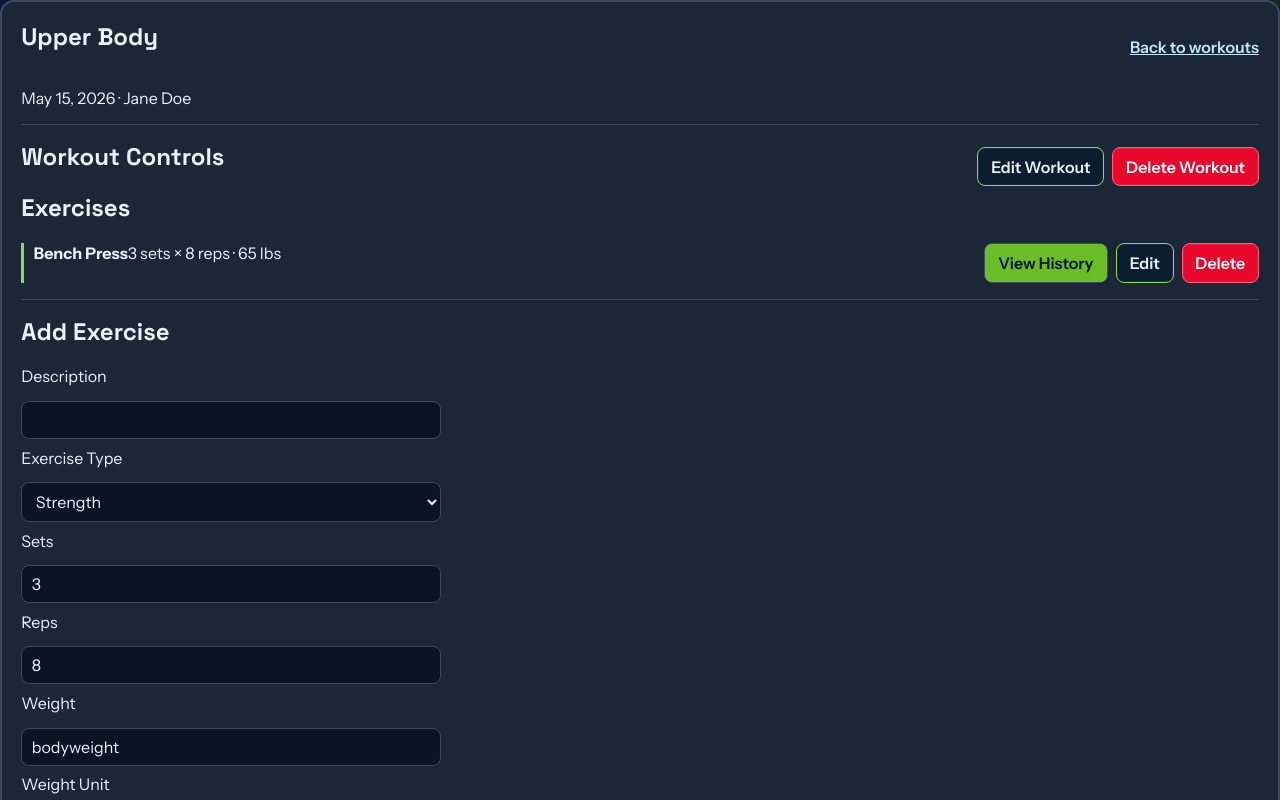
WorkoutDetailPage › deletes an exercise from the workout
Expected: the heading "Upper Body" is shown, [21,21,158,52]
Click the button "Delete" at (1220, 263), box [1182,243,1259,282]
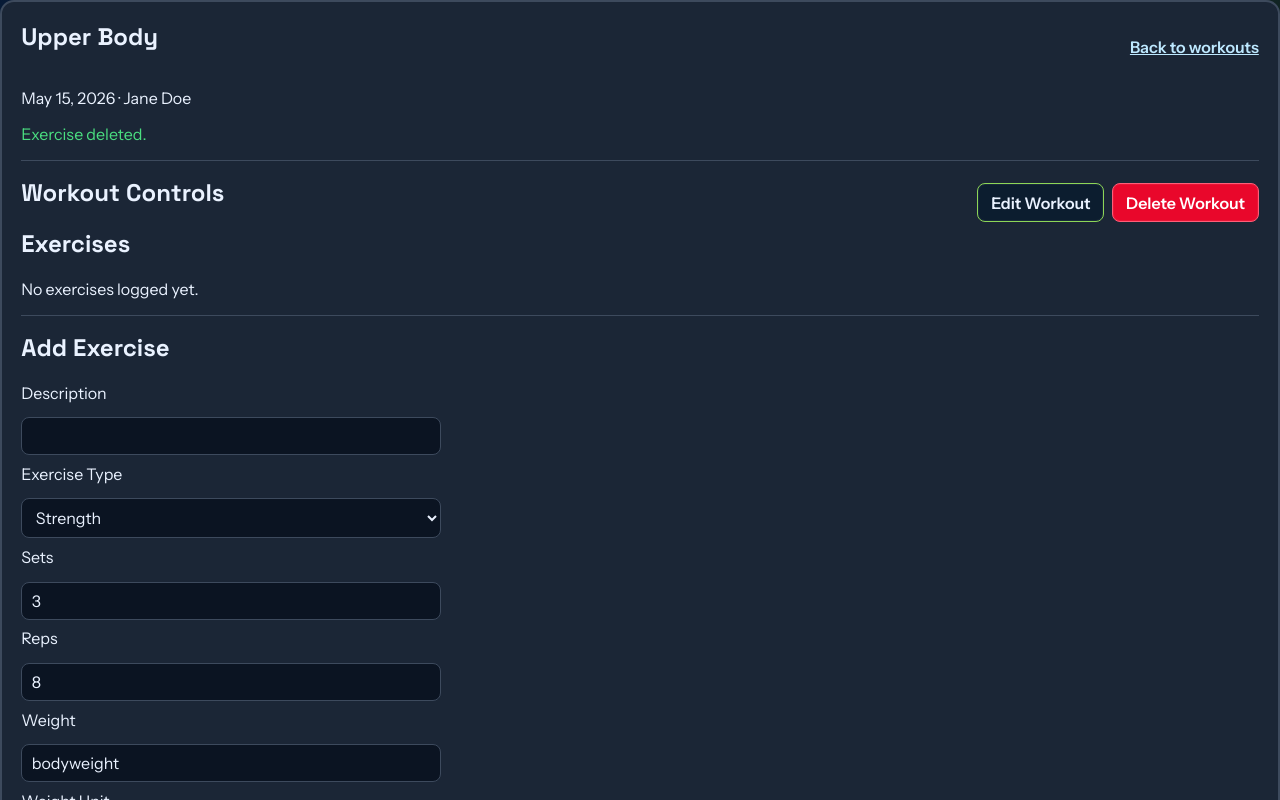
Expected: the text "Exercise deleted." is shown, [21,124,146,144]
